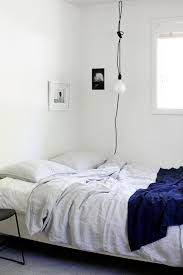bulb: (110, 74, 133, 96)
